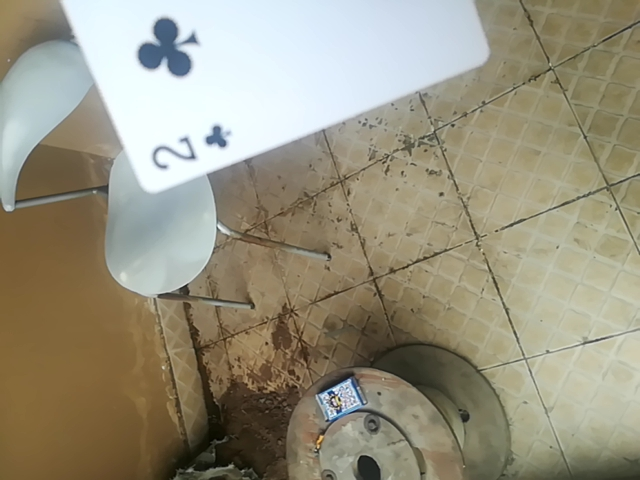mh 2: (41, 0, 489, 191)
